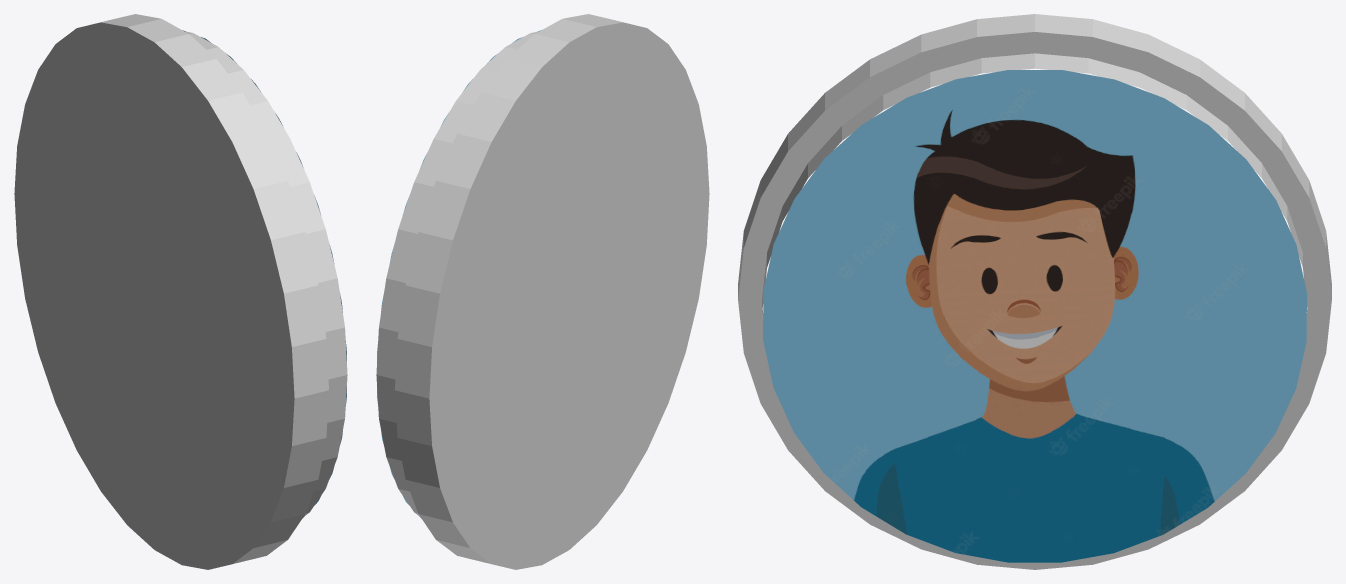
The model's file is husband 1.gltf.
3 renders of one model, left to right at view 1: azimuth 30°, elevation 25°; view 2: azimuth 150°, elevation 25°; view 3: azimuth 270°, elevation 25°, orthographic. The views are drawn at different scales.
Parts seen in each view (by area): view 1: Cylinder.013, Cylinder.014; view 2: Cylinder.013, Cylinder.014; view 3: Cylinder.023, Cylinder.014, Cylinder.013.
Boxes of the visible parts, <box> form: Cylinder.013: <box>14,14,328,569</box>; Cylinder.014: <box>185,31,347,516</box>; Cylinder.013: <box>395,14,709,569</box>; Cylinder.014: <box>376,31,538,516</box>; Cylinder.023: <box>763,70,1306,562</box>; Cylinder.014: <box>738,32,1331,569</box>; Cylinder.013: <box>738,14,1331,299</box>.
Bounding box in the file's own units: 0.8839 × 6.68 × 6.68.
Materials: 1 (1 with a texture image).
